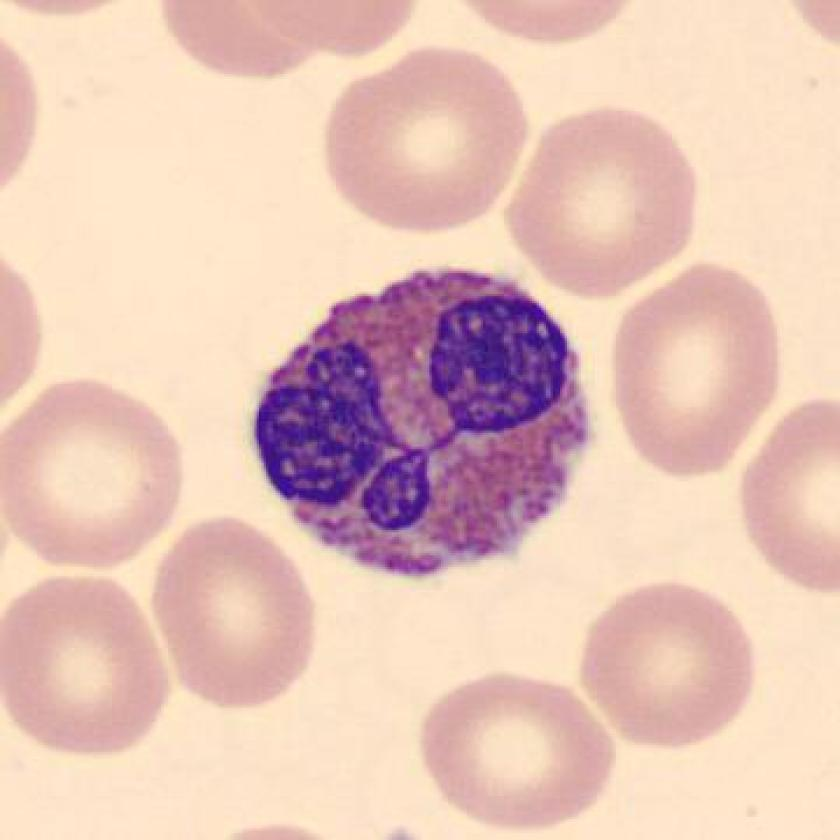eosinophil: (239, 253, 608, 589)
